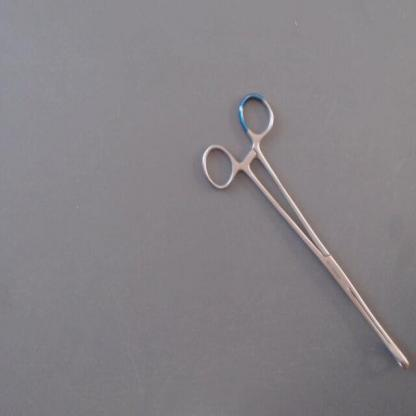Sponge Forceps: (196, 82, 414, 386)
